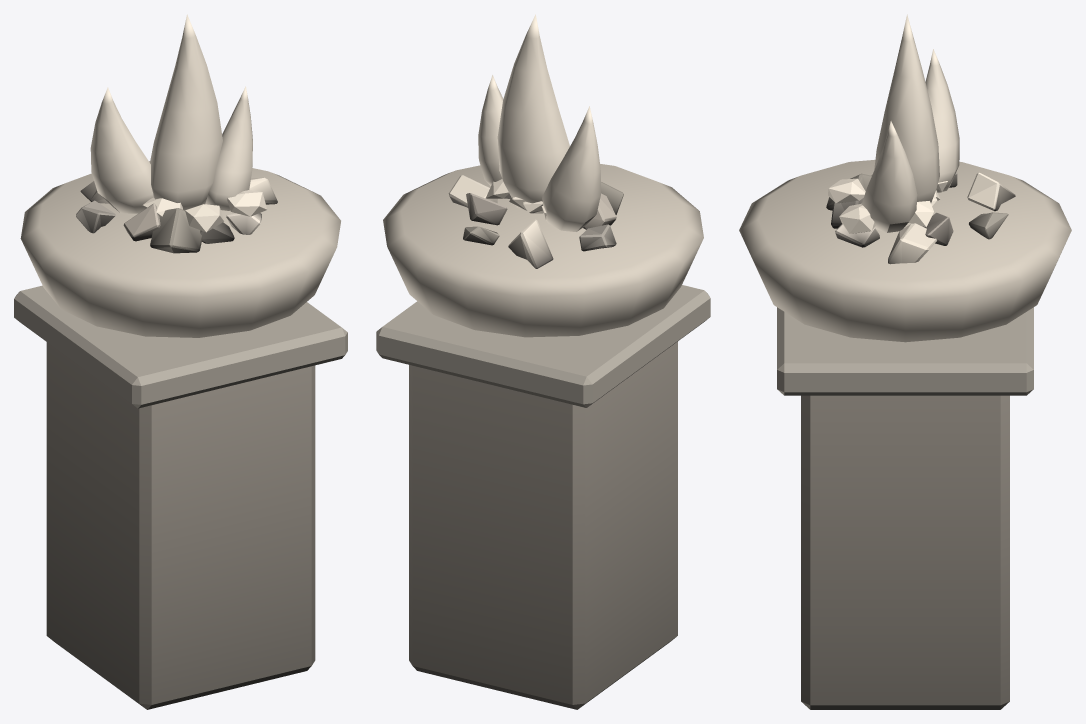
The model's file is SM_VKI_Prop_Brazier_Stone.fbx.
3 views of the same model, side by side, from view 1: azimuth 30°, elevation 25°; view 2: azimuth 150°, elevation 25°; view 3: azimuth 270°, elevation 25° (orthographic). The views are drawn at different scales.
Visible parts, largest first — view 1: SM_VKI_Prop_Brazier_Stone.001; view 2: SM_VKI_Prop_Brazier_Stone.001; view 3: SM_VKI_Prop_Brazier_Stone.001.
Part boxes in pixels (box(x1,y1,x2,y2)): SM_VKI_Prop_Brazier_Stone.001: box(14, 14, 347, 709); SM_VKI_Prop_Brazier_Stone.001: box(376, 14, 710, 709); SM_VKI_Prop_Brazier_Stone.001: box(739, 14, 1071, 709).
Bounding box in the file's own units: 0.7 × 1.53 × 0.7.
